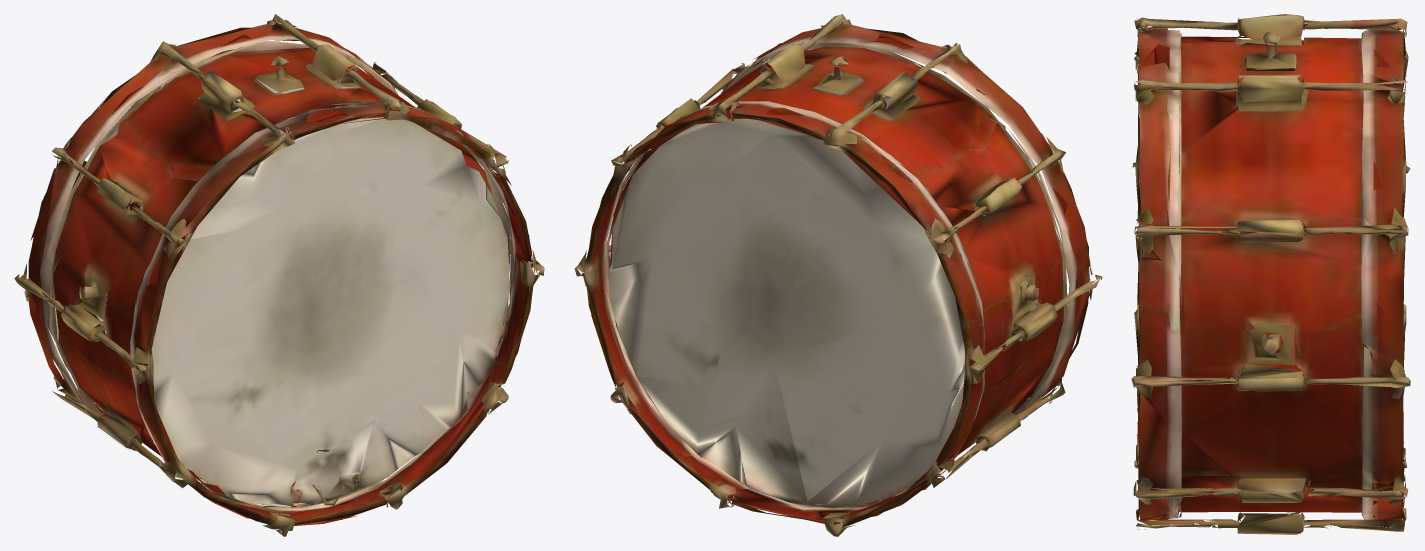
Rendered from bombo.movil.glb.
The picture shows the model from 3 angles, left to right: view 1: azimuth 30°, elevation 25°; view 2: azimuth 150°, elevation 25°; view 3: azimuth 270°, elevation 25°; orthographic projection. The views are drawn at different scales.
Parts seen in each view (by area): view 1: geometry_0; view 2: geometry_0; view 3: geometry_0.
Boxes of the visible parts, left/top/right/bottom form: geometry_0: left=14, top=14, right=544, bottom=536; geometry_0: left=574, top=14, right=1102, bottom=536; geometry_0: left=1131, top=14, right=1410, bottom=534.
Size of the model in its own units: 0.7482 by 0.7491 by 0.3988.
1 material, 1 textured.
